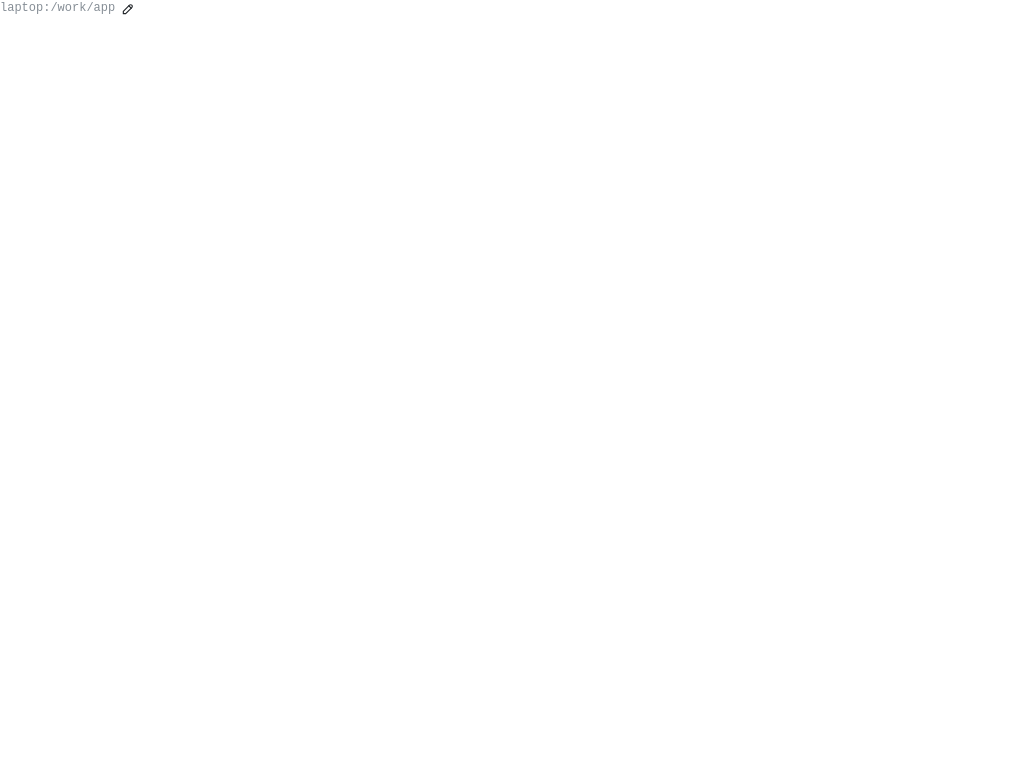
Test: WorkdirSetting › confirms first when the task has a session, and drops nothing on cancel
Later steps or results of the test are not shown.
Click the button named "Change the working directory": (128, 9) [119, 0, 137, 18]
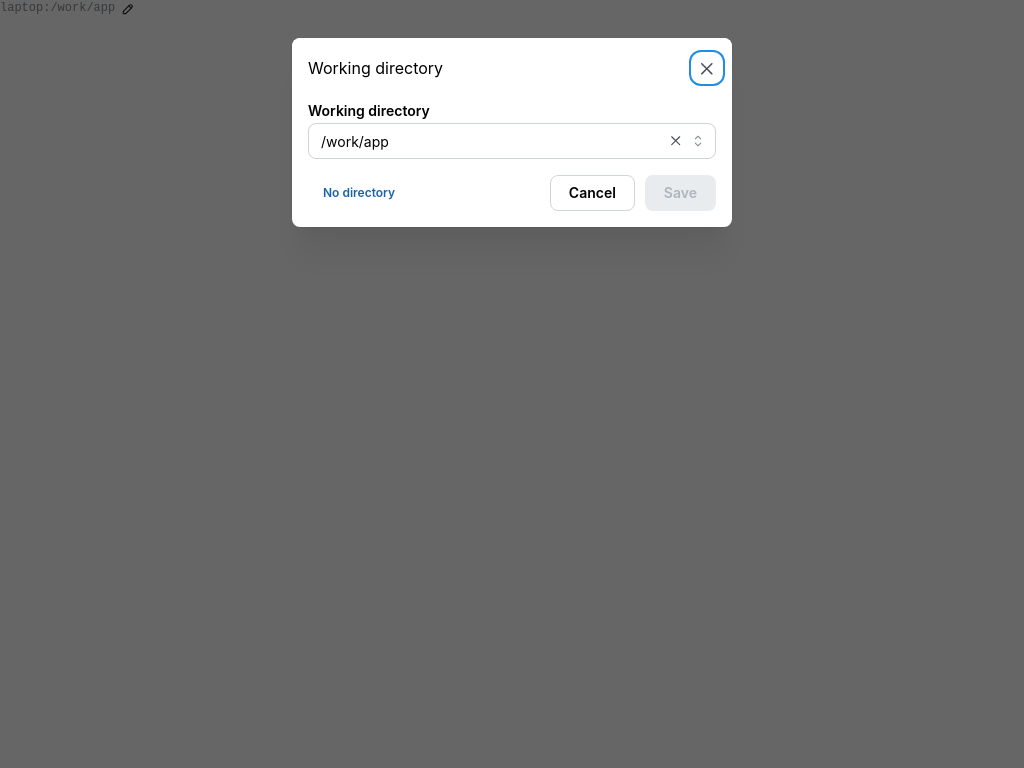
Click the dropdown labelled "Working directory": (512, 141) [308, 123, 716, 159]
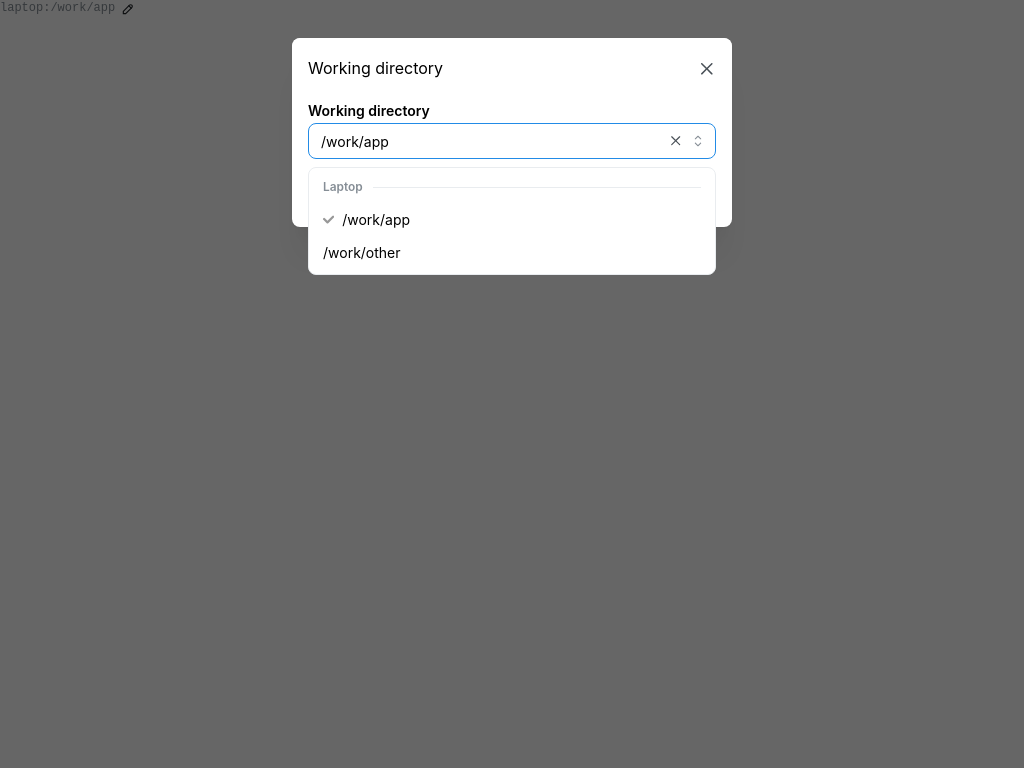
Click the option "/work/other": (362, 253) [323, 244, 400, 261]
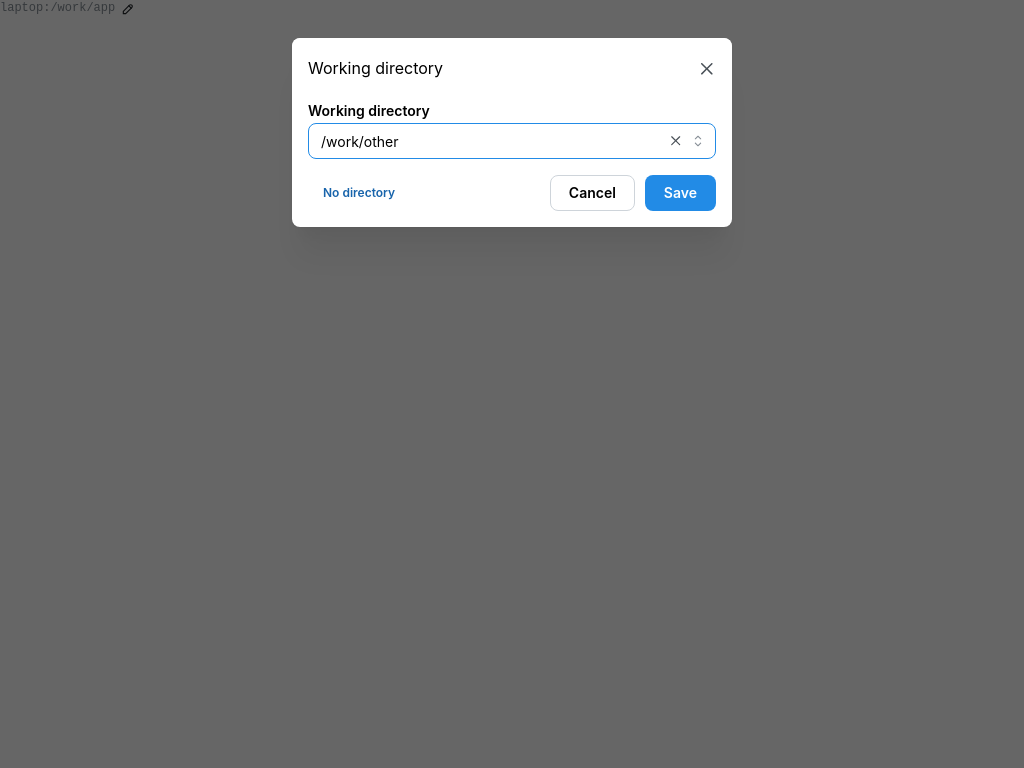
Click the button "Save": (680, 193) [645, 175, 716, 211]
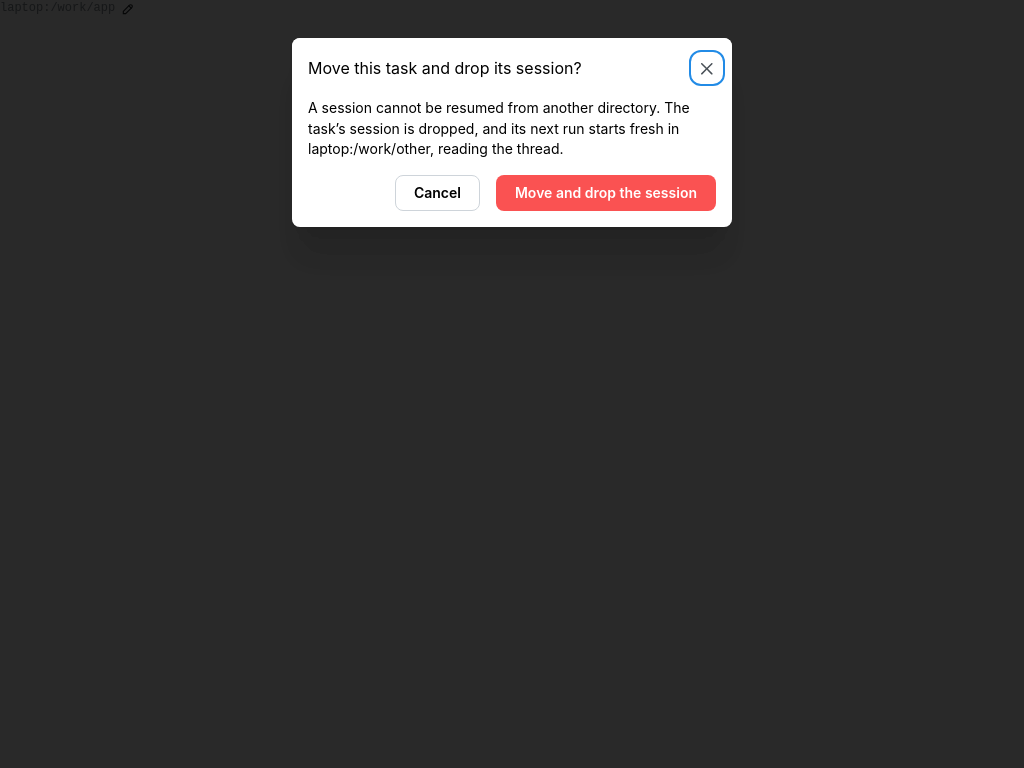
Expected: the text "session is dropped" is shown, [308, 99, 690, 137]
